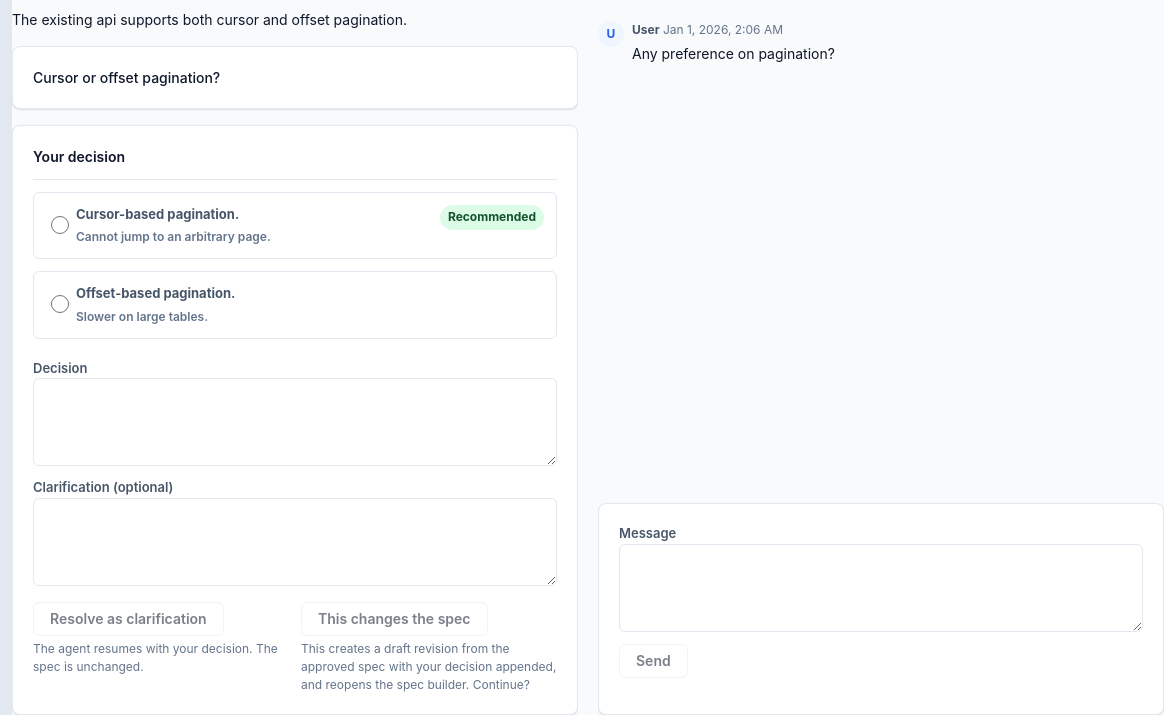
Test: IssueDetailView › shows the mapped text for a 409 EXECUTION_NOT_WAITING (AC3)
(page scrolled)
Type "hi" into the text box with test id "composer-text" at (881,588), box x1=619 y1=544 x2=1143 y2=632
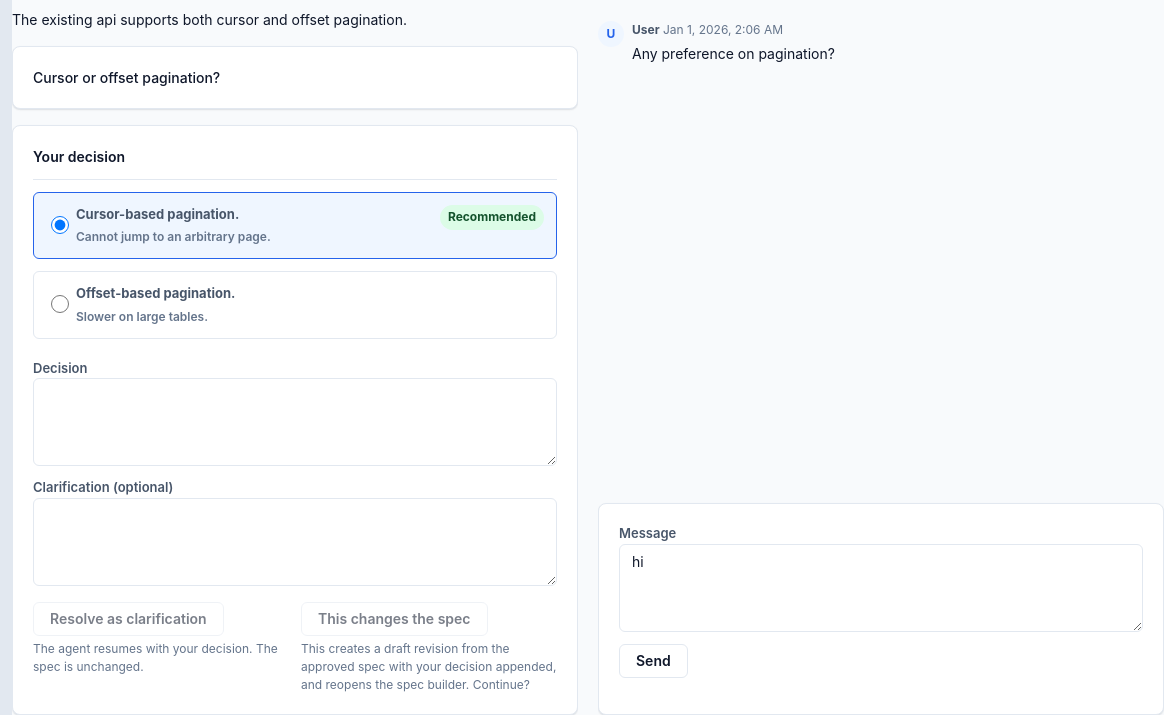
Click the button "Send" at (653,661), box x1=619 y1=644 x2=688 y2=678
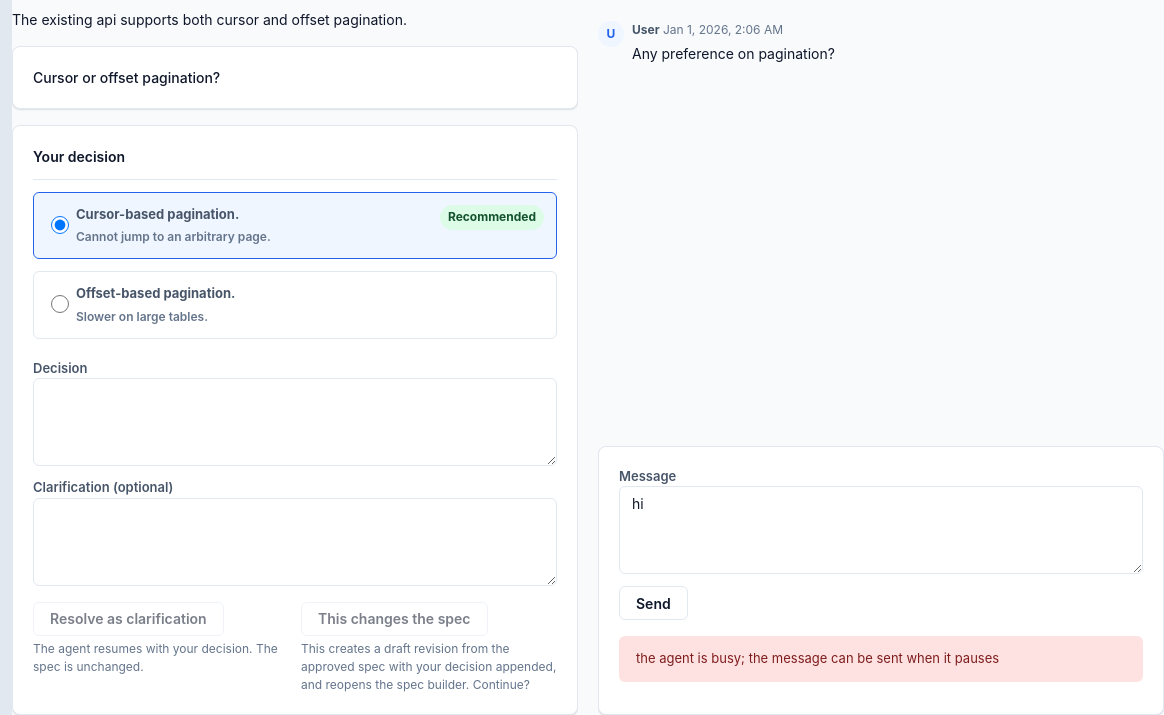
Expected: the message reads "the agent is busy; the message can be sent when it pauses", x1=636 y1=650 x2=999 y2=666
